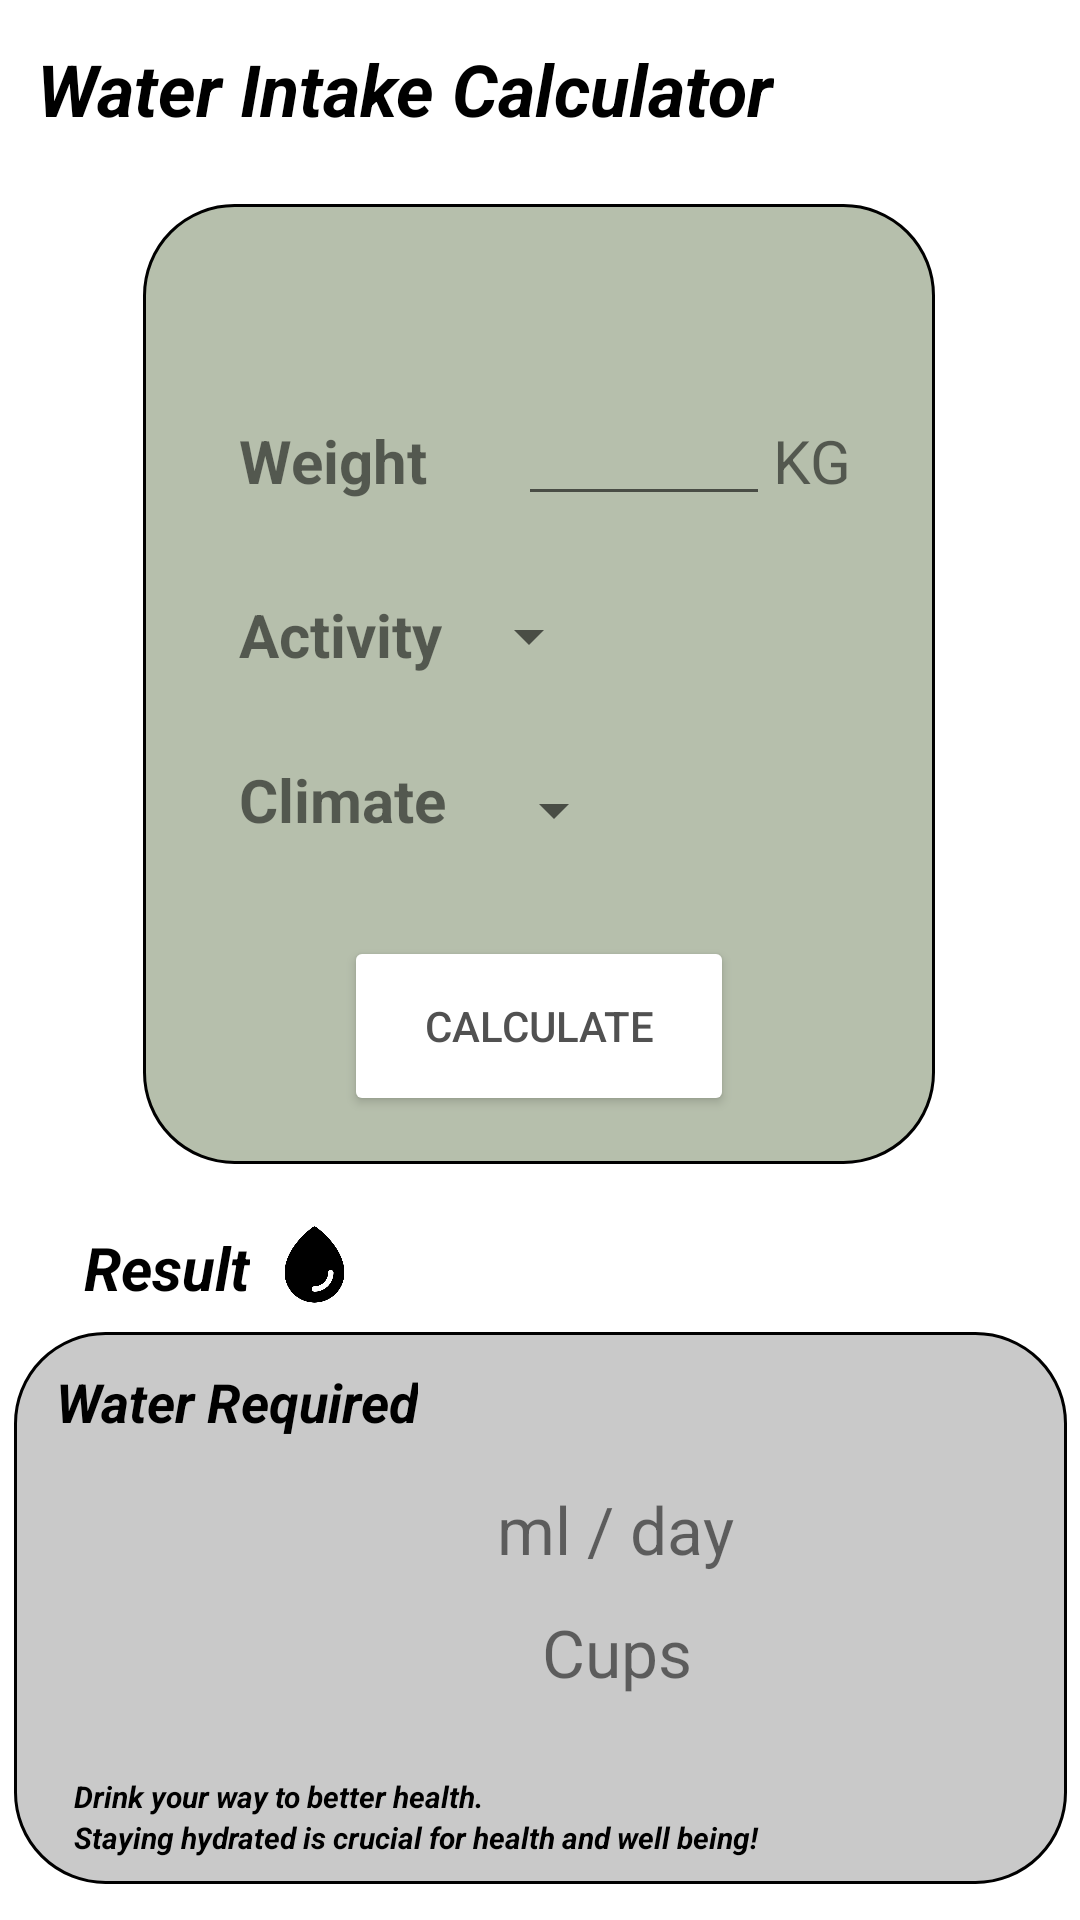

Icon bounding boxes for this 1080px×1920px phone screenshot, format (x1, y1, x2, y2):
water drop: (285, 1226, 344, 1303)
